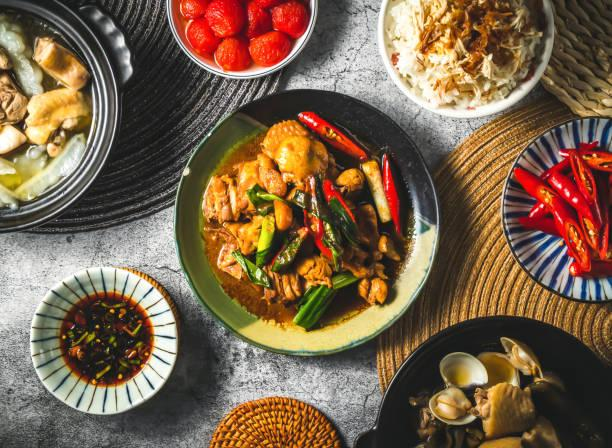Braised Crucian Carp: (173, 87, 432, 354), (353, 315, 609, 445), (0, 1, 125, 231), (502, 114, 612, 302), (378, 1, 546, 121), (165, 1, 312, 79)
